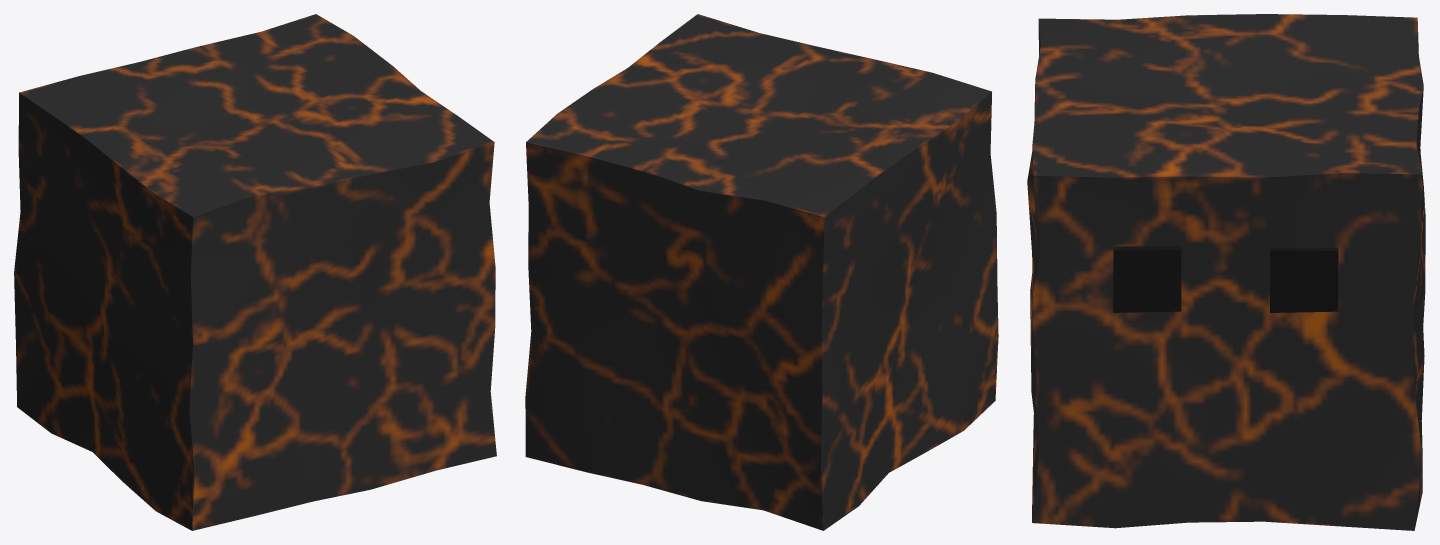
File: alevkup.fbx
3 renders of one model, left to right at view 1: azimuth 30°, elevation 25°; view 2: azimuth 150°, elevation 25°; view 3: azimuth 270°, elevation 25°, orthographic. The views are drawn at different scales.
Parts seen in each view (by area): view 1: Cube.004; view 2: Cube.004; view 3: Cube.004, Cube.006.
Part boxes in pixels (<box>): Cube.004: <box>14,14,496,530</box>; Cube.004: <box>525,14,998,530</box>; Cube.004: <box>1027,14,1425,530</box>; Cube.006: <box>1113,246,1338,312</box>.
Size of the model in its own units: 204 by 204 by 206.
Materials: 1 (1 with a texture image).
